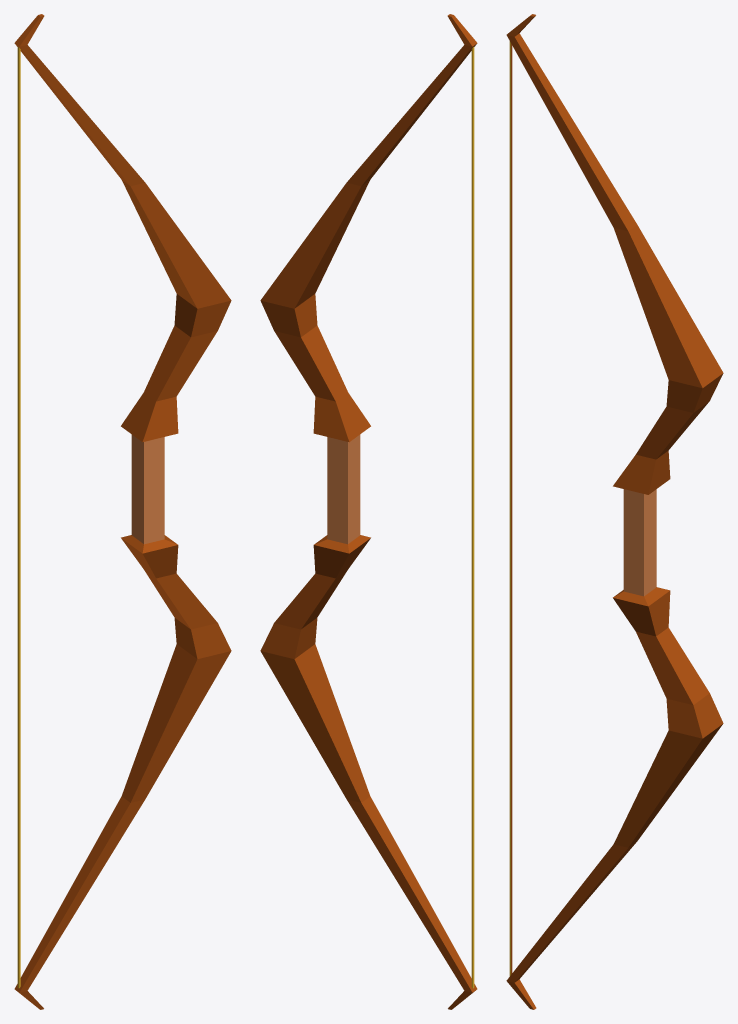
Rendered from (1) senjata busur prajurit.fbx.
3 views of the same model, side by side, from view 1: azimuth 30°, elevation 25°; view 2: azimuth 150°, elevation 25°; view 3: azimuth 330°, elevation 25° (orthographic).
Visible parts, largest first — view 1: busur; view 2: busur; view 3: busur.
Part boxes in pixels (x1,y1,x2,y2): busur: [14, 14, 231, 1009]; busur: [260, 14, 477, 1009]; busur: [506, 14, 723, 1009].
Bounding box in the file's own units: 78.19 × 363 × 14.52.
